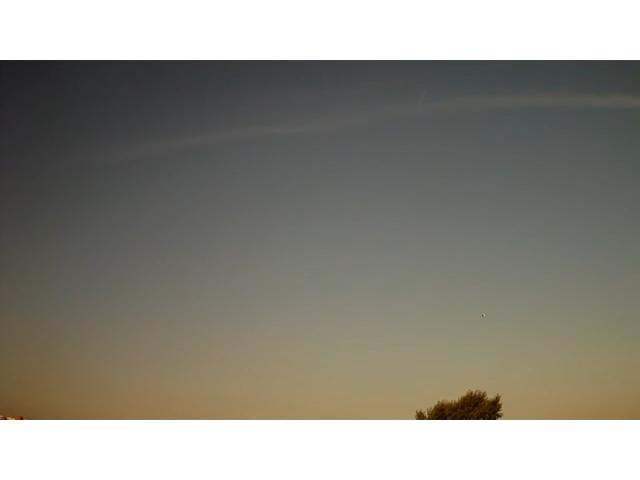Anti-Drone: (473, 310, 491, 326)
